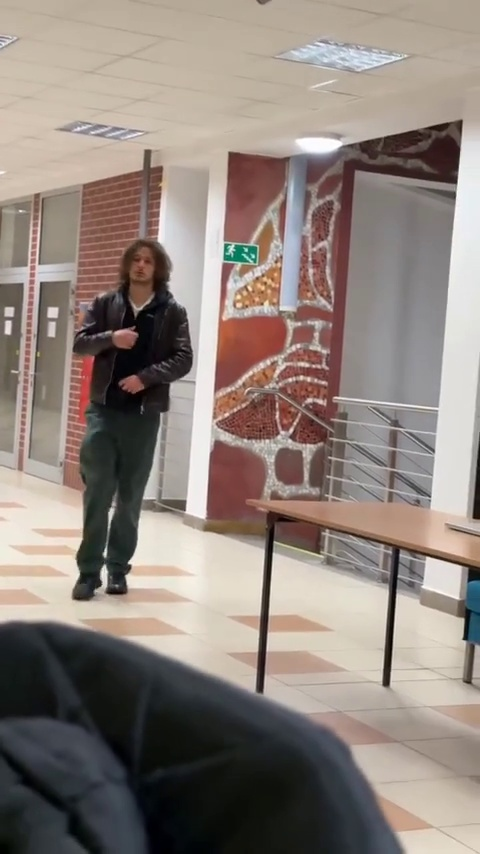no vest: (77, 237, 191, 599)
